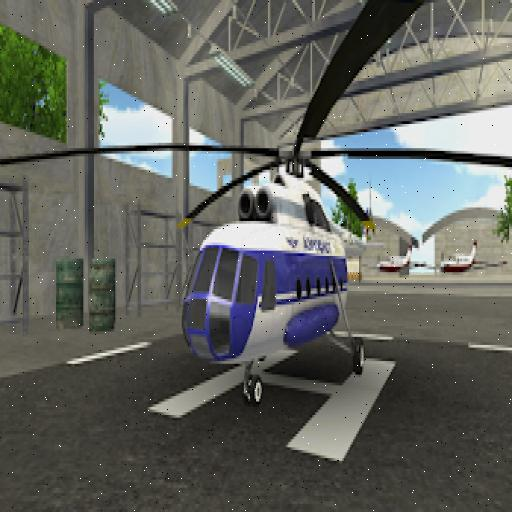helicopter: (1, 1, 512, 378)
